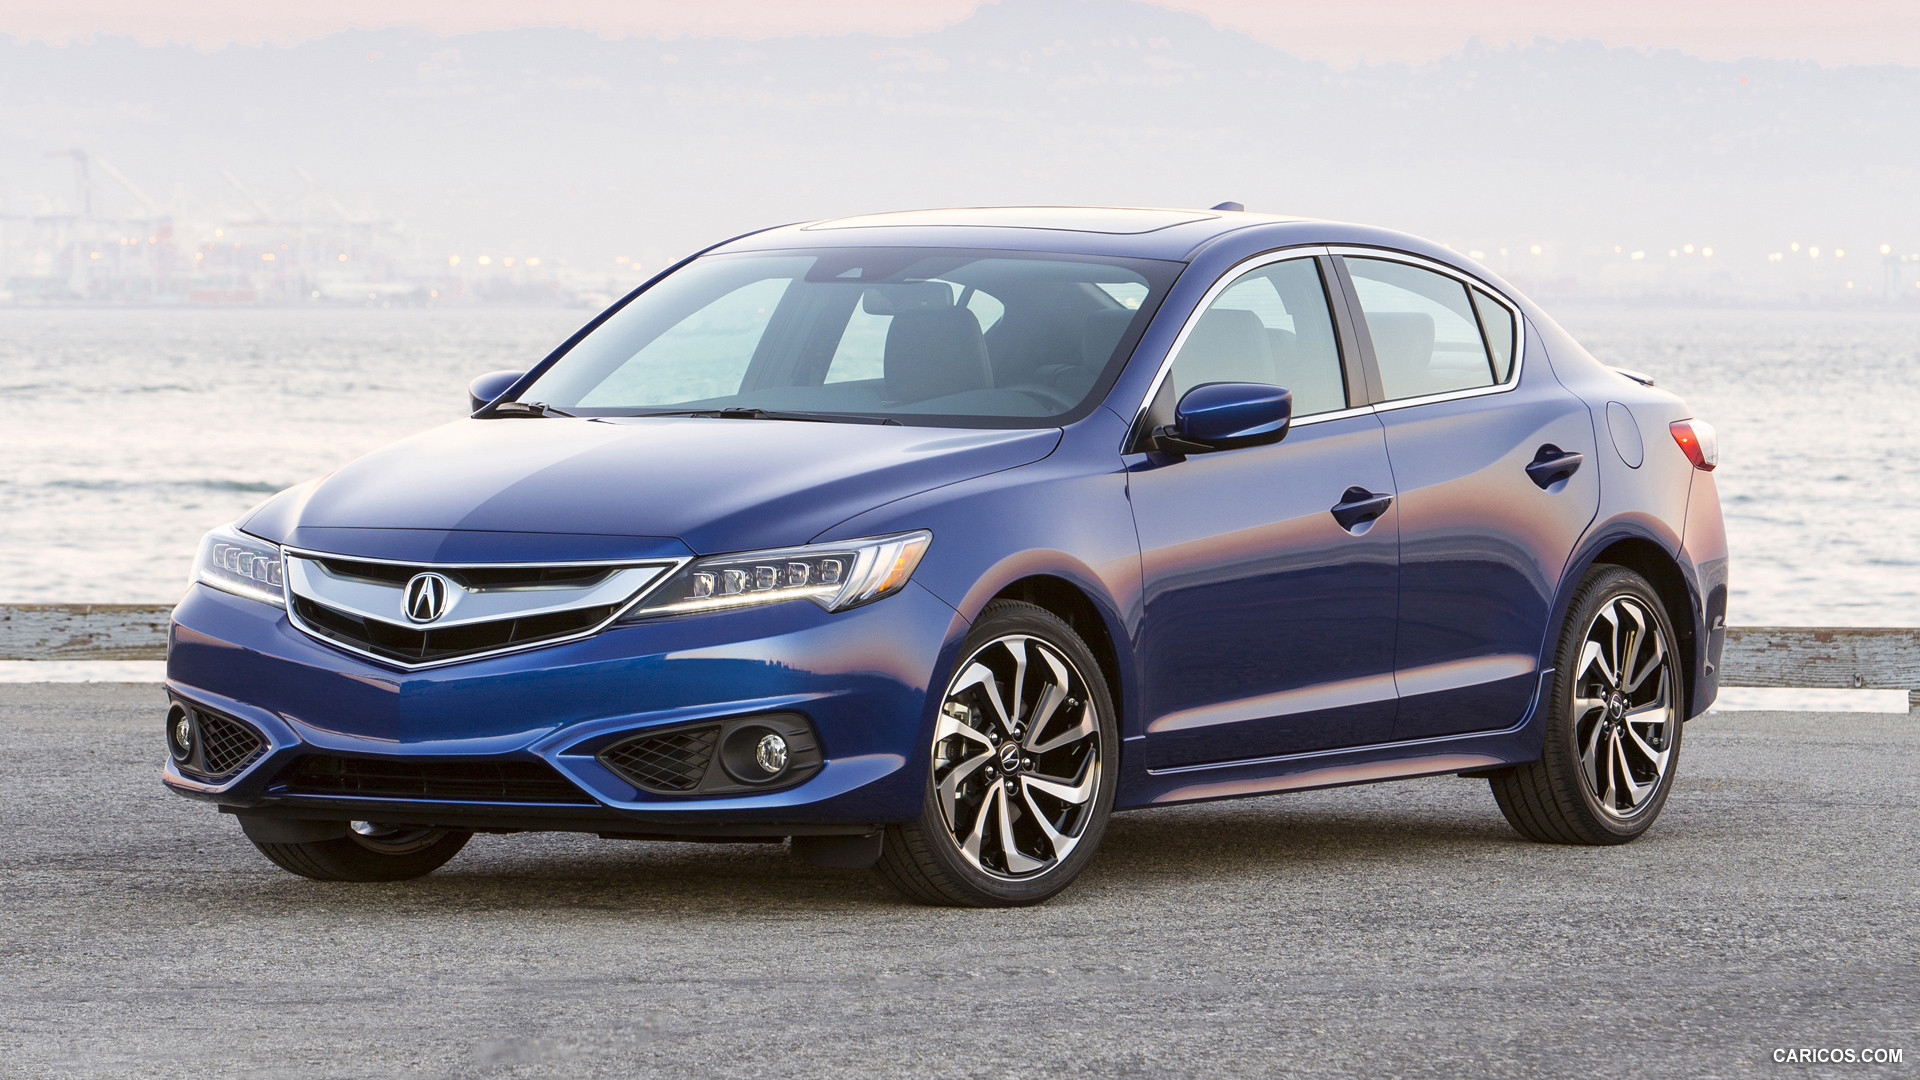Fog Lamp & Scope: (596, 711, 823, 796)
Front: (156, 427, 1044, 804)
Front Bumper: (152, 671, 930, 818)
Grill: (280, 556, 655, 669)
Headlight: (622, 530, 934, 625)
